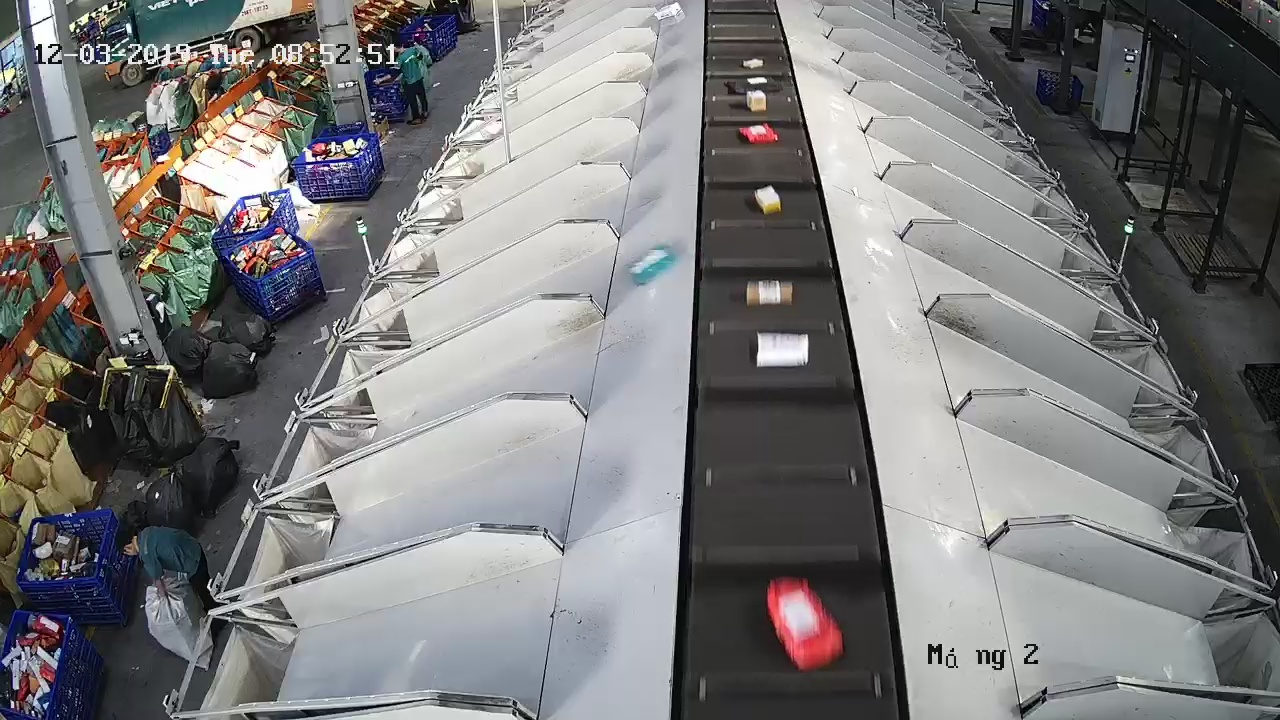parcel: (764, 576, 845, 673), (625, 242, 676, 287), (754, 330, 810, 369), (745, 278, 794, 308), (737, 122, 781, 146), (754, 184, 783, 216)
